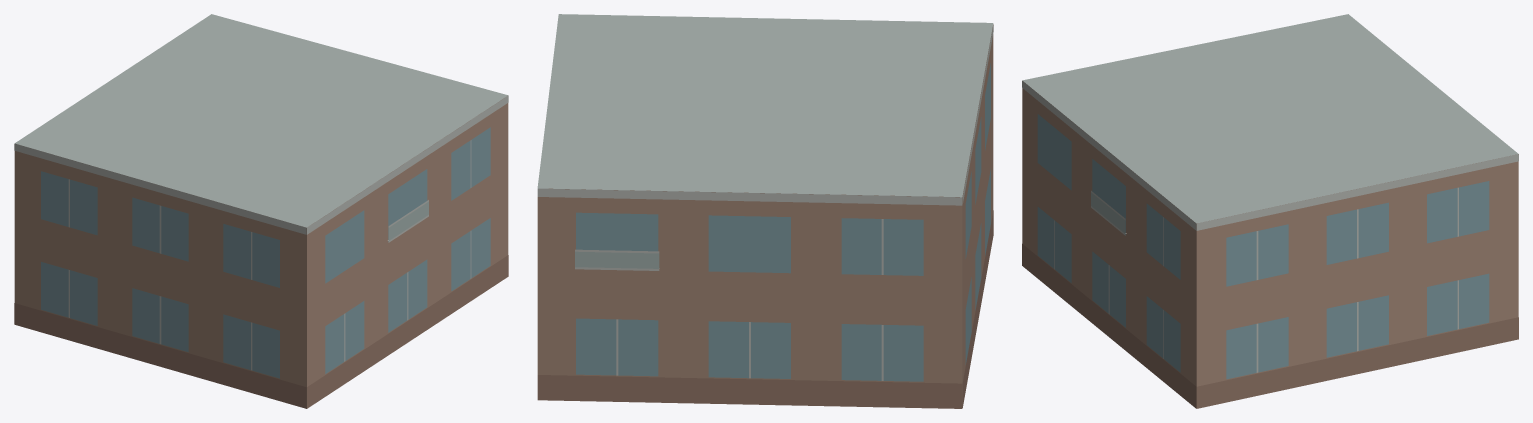
Rendered from survey-upis-32705965.glb.
The picture shows the model from 3 angles, left to right: view 1: azimuth 30°, elevation 25°; view 2: azimuth 150°, elevation 25°; view 3: azimuth 270°, elevation 25°; orthographic projection. The views are drawn at different scales.
Parts seen in each view (by area): view 1: survey-upis-32705965.tmp; view 2: survey-upis-32705965.tmp; view 3: survey-upis-32705965.tmp.
Boxes of the visible parts, x1=… form: survey-upis-32705965.tmp: x1=14, y1=14, x2=508, y2=408; survey-upis-32705965.tmp: x1=537, y1=14, x2=993, y2=408; survey-upis-32705965.tmp: x1=1022, y1=14, x2=1518, y2=408.
Size of the model in its own units: 14.8 by 6.1 by 14.82.
